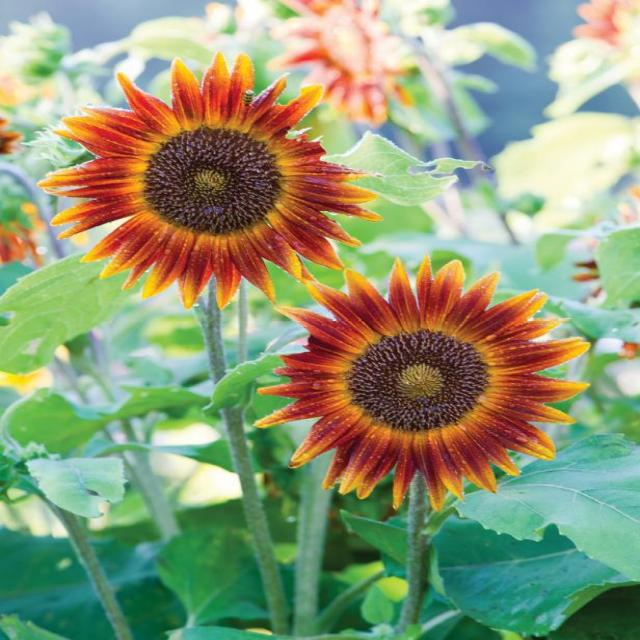other: (263, 274, 585, 500), (75, 70, 354, 285)
